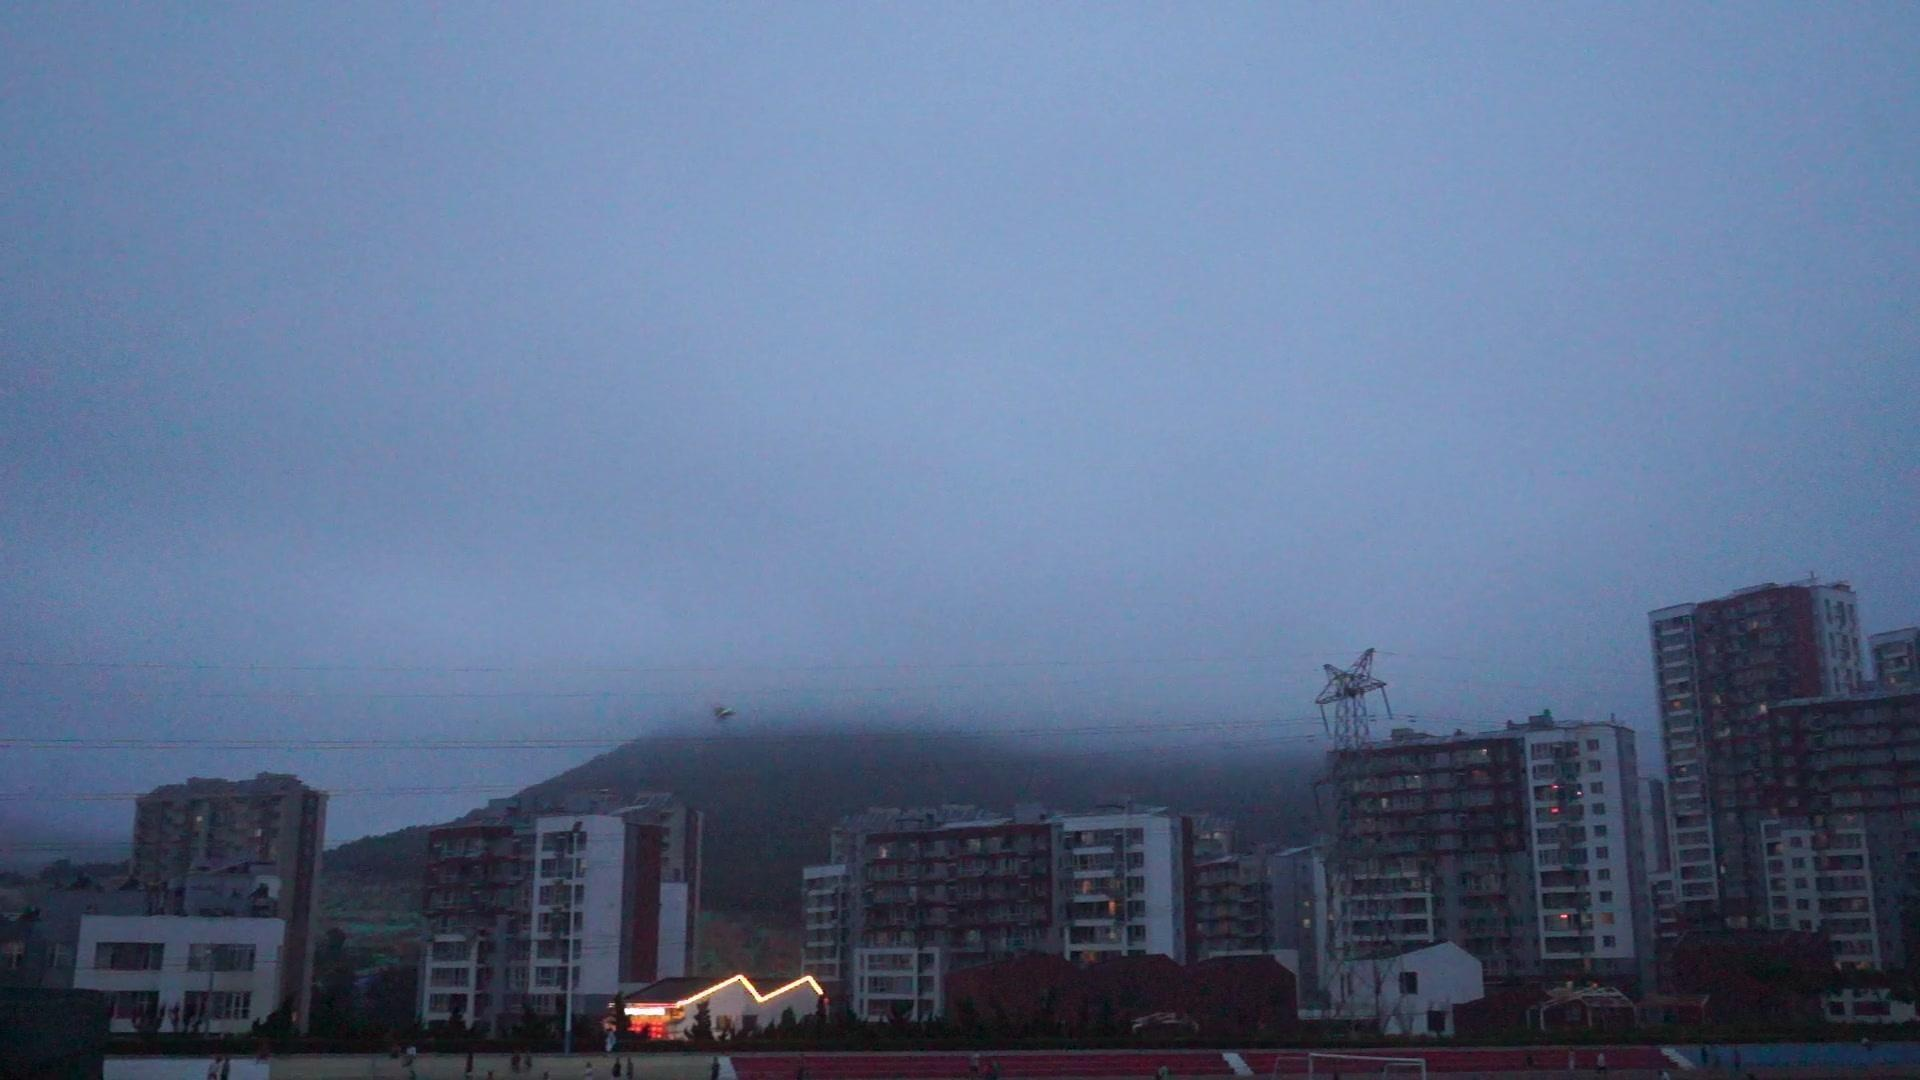UAV: (713, 703, 738, 723)
